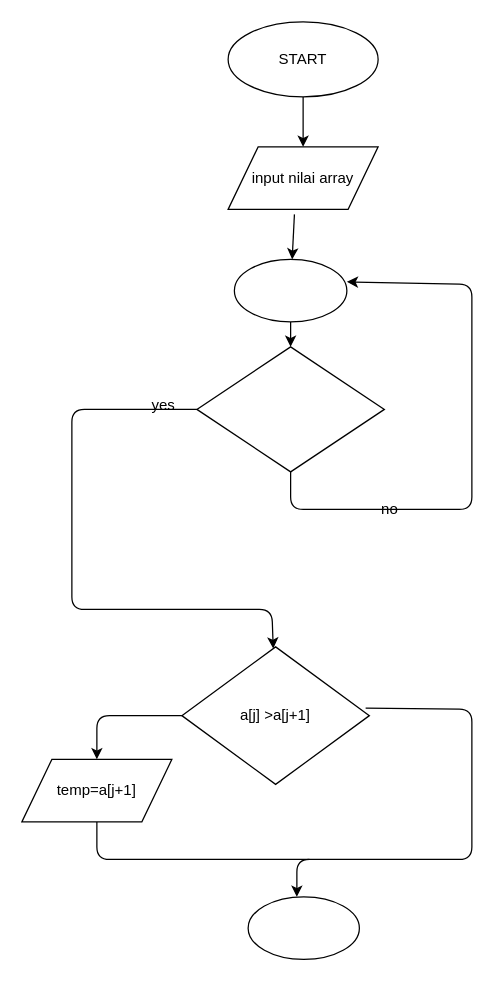
Image size: 504x981. Some labels were removed from this diagram. The centre of each missing label's shape, as x and y in pixels:
for int x=0;x<a.length ;X++: [290,409]
loop: [290,290]
